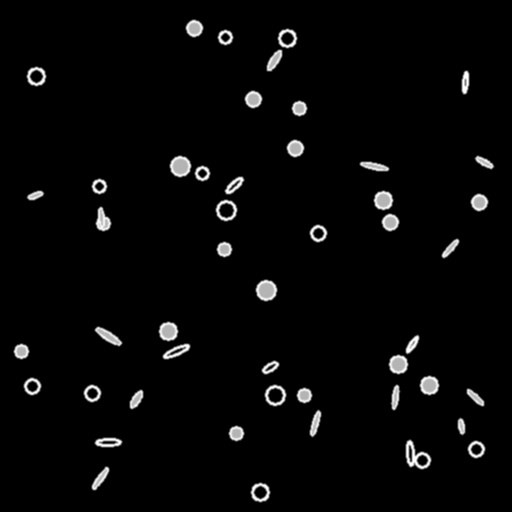pseudomonas: (94, 325, 122, 347), (162, 343, 190, 359), (265, 48, 283, 72), (91, 467, 109, 489), (224, 176, 244, 194), (466, 388, 484, 406), (128, 389, 144, 409), (309, 411, 321, 435), (442, 239, 458, 257), (360, 161, 388, 171), (405, 335, 419, 353), (475, 155, 493, 169), (262, 360, 278, 374), (406, 440, 414, 466), (391, 386, 399, 408), (27, 190, 43, 200), (97, 208, 105, 226), (96, 439, 120, 445), (462, 71, 468, 93), (457, 418, 465, 434)
synechocystis: (171, 157, 189, 175), (257, 281, 275, 299), (266, 386, 284, 404), (217, 201, 235, 219), (375, 192, 391, 208), (279, 30, 295, 46), (252, 484, 268, 500), (28, 68, 44, 84), (421, 377, 437, 393), (390, 356, 406, 372), (160, 323, 176, 339), (415, 453, 429, 467), (187, 21, 201, 35), (383, 215, 397, 229), (288, 141, 302, 155), (472, 195, 486, 209), (25, 379, 39, 393), (311, 226, 325, 240), (469, 442, 483, 456), (85, 386, 99, 400), (246, 92, 260, 106), (97, 217, 109, 229), (196, 167, 208, 179), (93, 180, 105, 192), (298, 389, 310, 401), (230, 427, 242, 439), (218, 243, 230, 255), (293, 102, 305, 114), (219, 31, 231, 43), (15, 345, 27, 357)
